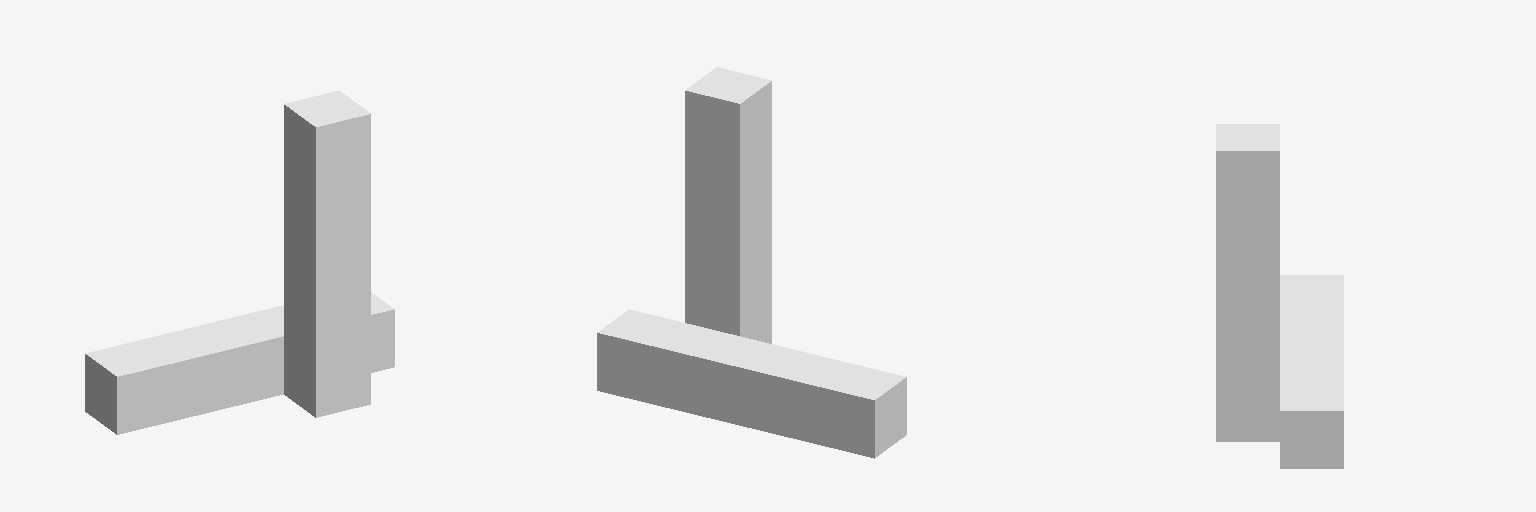
Rendered from SH_Items-0-Ammo_Heavy.obj.
The picture shows the model from 3 angles: view 1: azimuth 30°, elevation 25°; view 2: azimuth 150°, elevation 25°; view 3: azimuth 270°, elevation 25°; orthographic projection.
Parts seen in each view (by area): view 1: Ammo_Heavy; view 2: Ammo_Heavy; view 3: Ammo_Heavy.
Part boxes in pixels (x1,y1,x2,y2): Ammo_Heavy: (85,91,394,434); Ammo_Heavy: (597,67,906,458); Ammo_Heavy: (1216,124,1343,468).
Bounding box in the file's own units: 0.5 × 0.5 × 0.2.